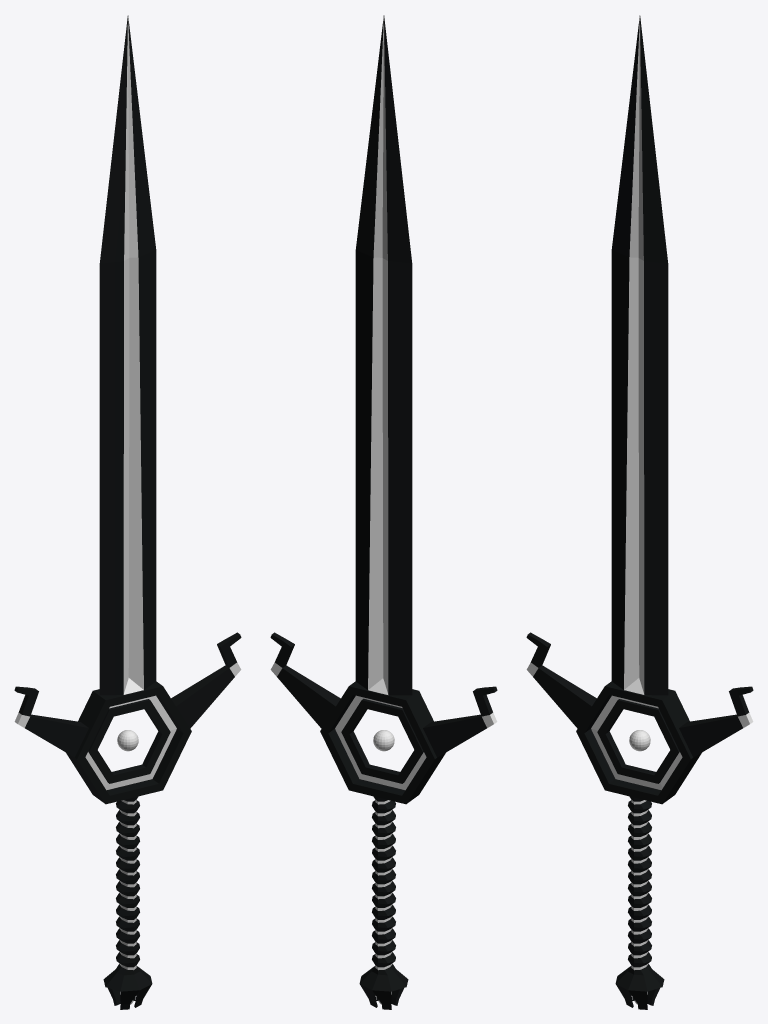
The model's file is Sword_mk_3.fbx.
3 renders of one model, left to right at view 1: azimuth 30°, elevation 25°; view 2: azimuth 150°, elevation 25°; view 3: azimuth 330°, elevation 25°, orthographic.
Parts seen in each view (by area): view 1: Sword_mk_3; view 2: Sword_mk_3; view 3: Sword_mk_3.
Boxes of the visible parts, left/top/right/bottom form: Sword_mk_3: left=14, top=15, right=241, bottom=1009; Sword_mk_3: left=270, top=15, right=497, bottom=1009; Sword_mk_3: left=526, top=15, right=753, bottom=1009.
Bounding box in the file's own units: 19.85 × 3.65 × 83.8.
